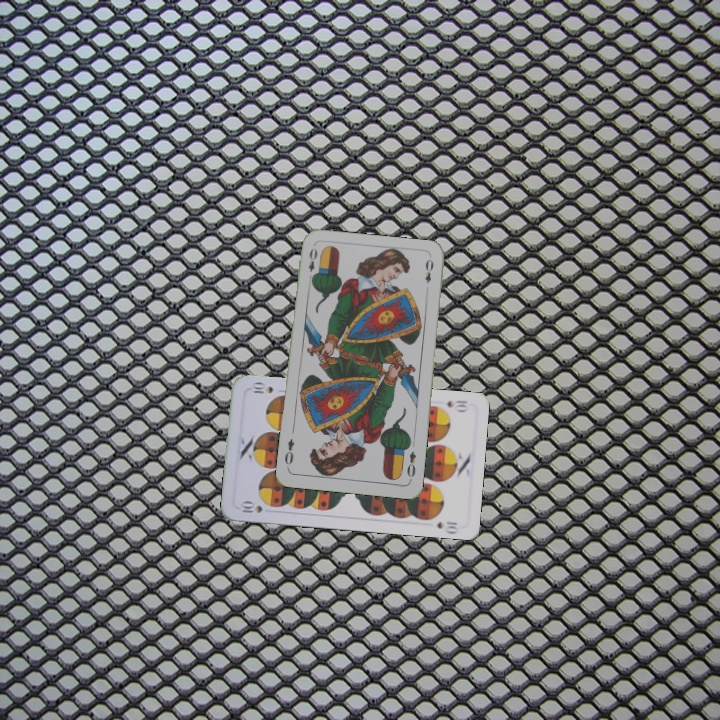EO: (304, 244, 320, 284), (403, 447, 419, 483)
S10: (237, 498, 265, 516), (443, 396, 470, 414)
